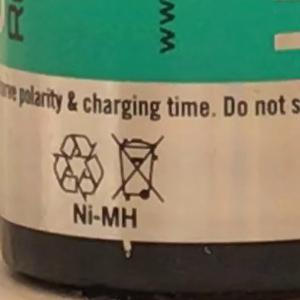NI-MH: (64, 197, 147, 234)
